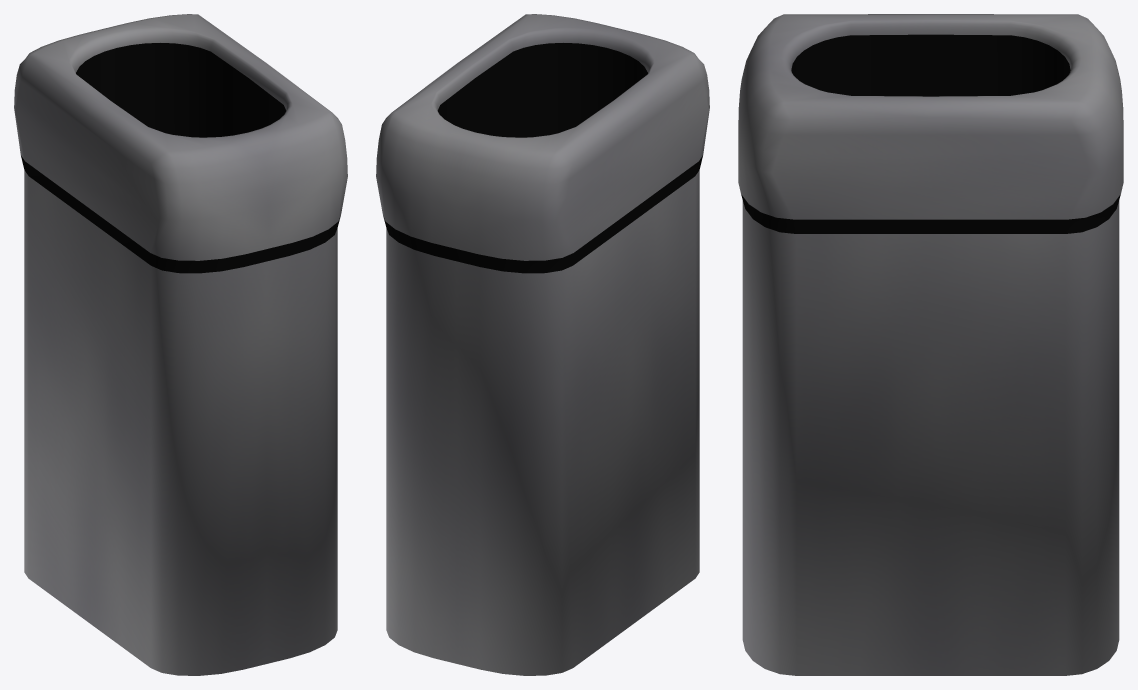
The model's file is trashCan.fbx.
3 views of the same model, side by side, from view 1: azimuth 30°, elevation 25°; view 2: azimuth 150°, elevation 25°; view 3: azimuth 270°, elevation 25° (orthographic). The views are drawn at different scales.
Visible parts, largest first — view 1: trashCan; view 2: trashCan; view 3: trashCan.
Boxes of the visible parts, box(x1,y1,x2,y2) form: trashCan: box(14, 14, 347, 675); trashCan: box(376, 14, 709, 675); trashCan: box(738, 14, 1123, 675).
Bounding box in the file's own units: 0.2762 × 0.7331 × 0.4501.
1 material, 1 textured.
